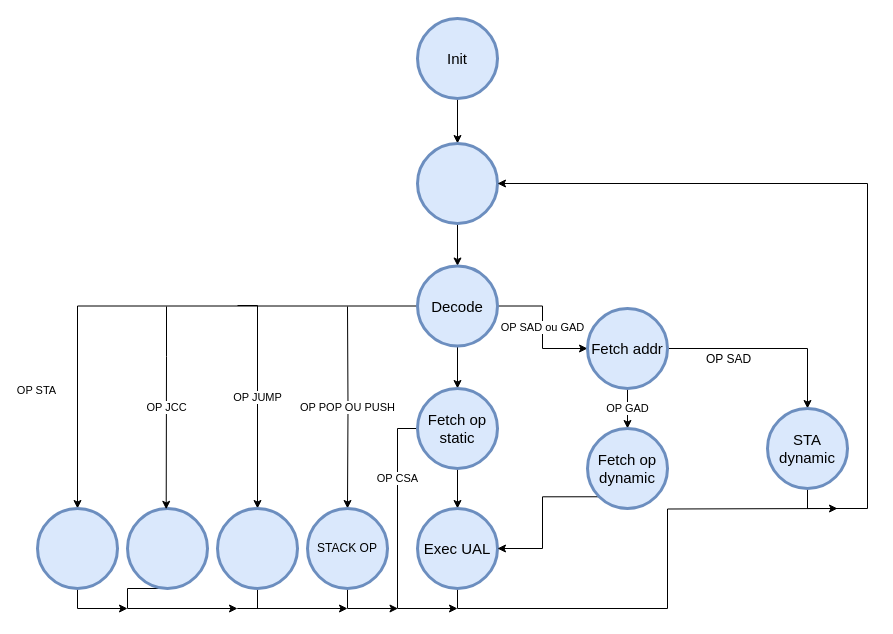
This 893x634 diagram has some shape labels left out. The shapes that lost their labels are listed below. From the top down, each one's centre as x and y in pixels, then its label:
At point 457,183: "Fetch inst".
At point 77,548: "STA static".
At point 167,548: "Exec JCC".
At point 257,548: "Exec JUMP".
